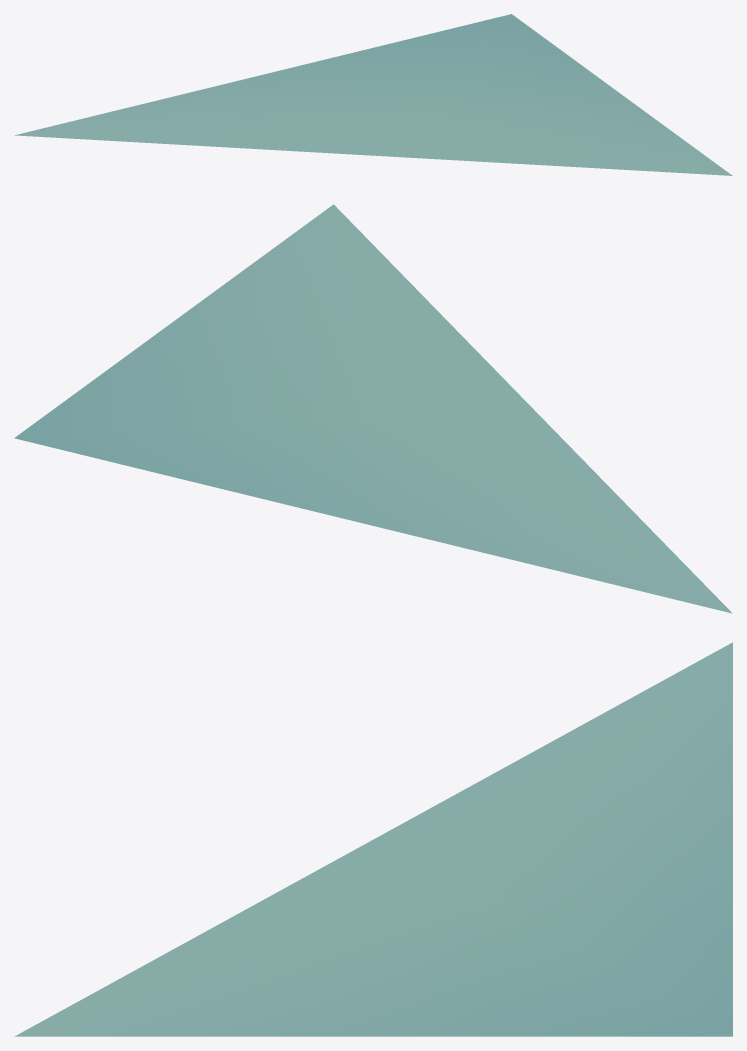
The model's file is water-22-9.glb.
The picture shows the model from 3 angles, top to bottom: view 1: azimuth 30°, elevation 25°; view 2: azimuth 150°, elevation 25°; view 3: azimuth 270°, elevation 25°; orthographic projection. The views are drawn at different scales.
Bounding box in the file's own units: 5.09 × 0 × 3.92.
